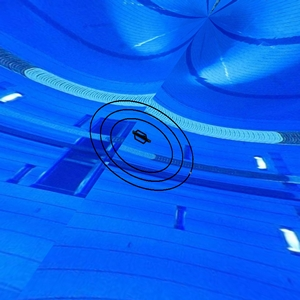circle: (84, 97, 201, 200)
submarine: (128, 126, 157, 151)
